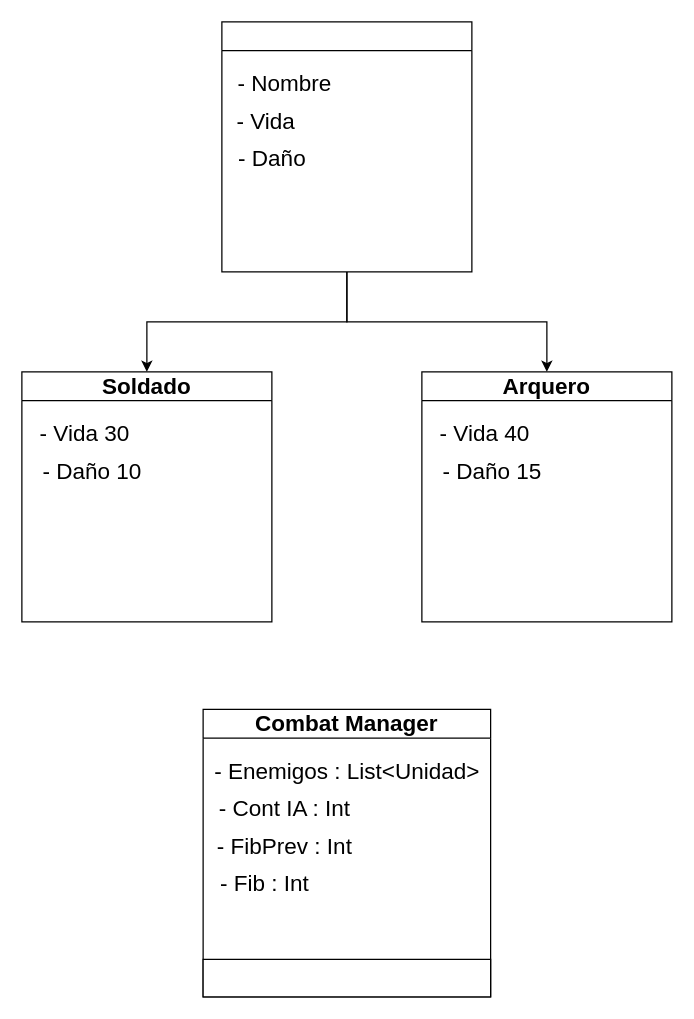
Image size: 694x1019. Some labels were removed from this diagram. Here are the shapes that lost their labels. From the top down, the box of each, then its label:
(221, 21, 472, 272): Unidad
(202, 958, 491, 997): + IniciarCombate()
